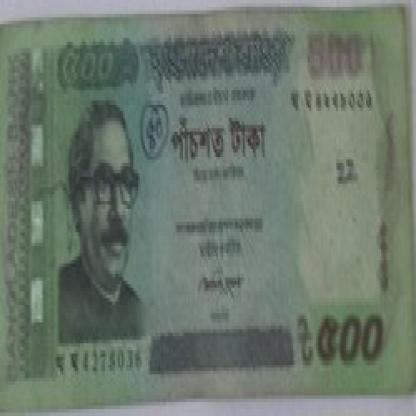500 taka: (45, 35, 121, 86)
currency: (3, 14, 414, 409)
